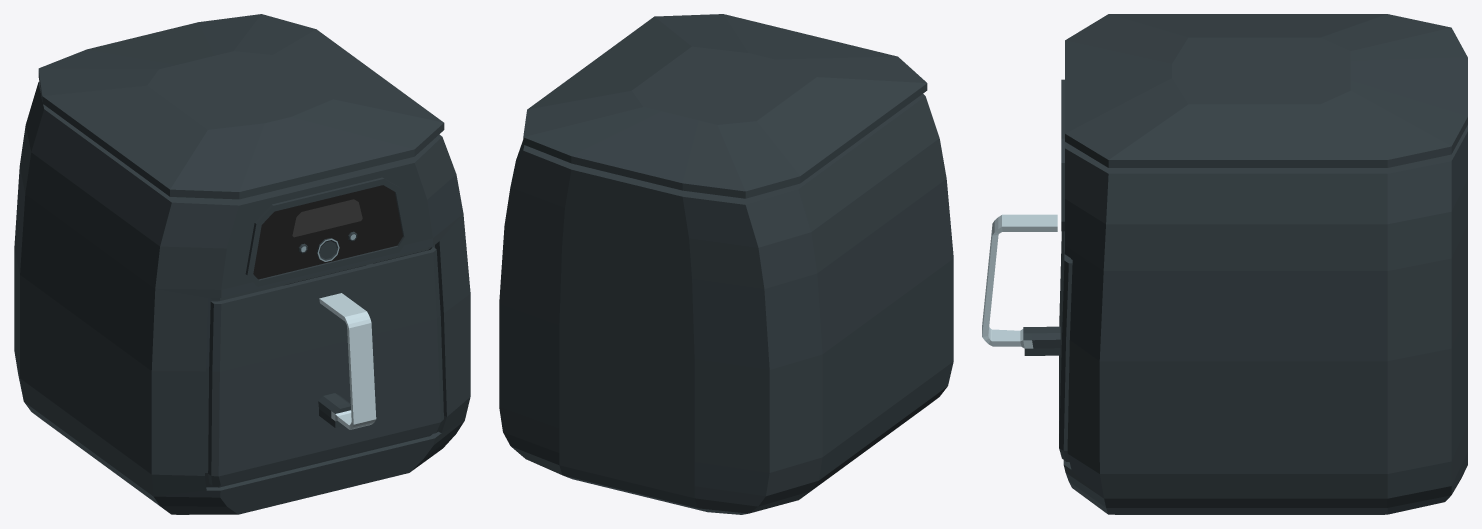
The model's file is KA_Airfryer_V1.fbx.
The picture shows the model from 3 angles, left to right: view 1: azimuth 30°, elevation 25°; view 2: azimuth 150°, elevation 25°; view 3: azimuth 270°, elevation 25°; orthographic projection. The views are drawn at different scales.
Visible parts, largest first — view 1: KA_Airfryer_V1, KA_Airfryer_V1_Tray; view 2: KA_Airfryer_V1; view 3: KA_Airfryer_V1, KA_Airfryer_V1_Tray.
Boxes of the visible parts, x1,y1,x2,y2 form: KA_Airfryer_V1: (14,14,470,514); KA_Airfryer_V1_Tray: (208,247,443,485); KA_Airfryer_V1: (499,14,953,514); KA_Airfryer_V1: (1061,14,1467,514); KA_Airfryer_V1_Tray: (982,214,1072,461).
Size of the model in its own units: 28.51 by 29.99 by 34.44.
